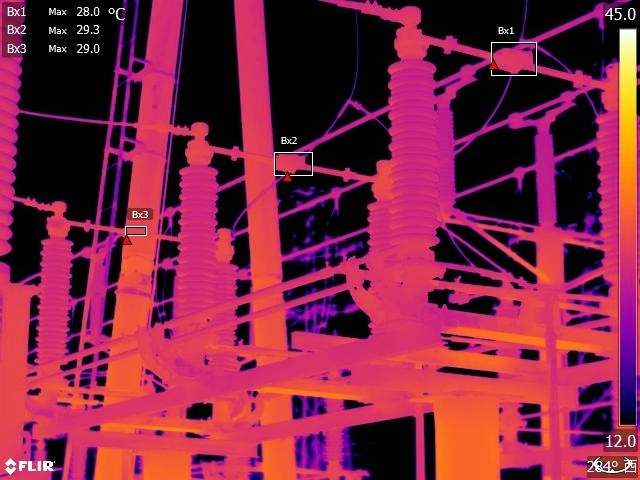clamp: (507, 159, 531, 194), (339, 88, 370, 113), (327, 179, 345, 211)
post insulator: (381, 52, 445, 256), (592, 114, 640, 300), (172, 162, 220, 326), (33, 230, 73, 377), (207, 260, 243, 356), (532, 132, 565, 227), (365, 196, 396, 257)
switch: (393, 17, 619, 109), (182, 130, 390, 197), (45, 199, 241, 267)
